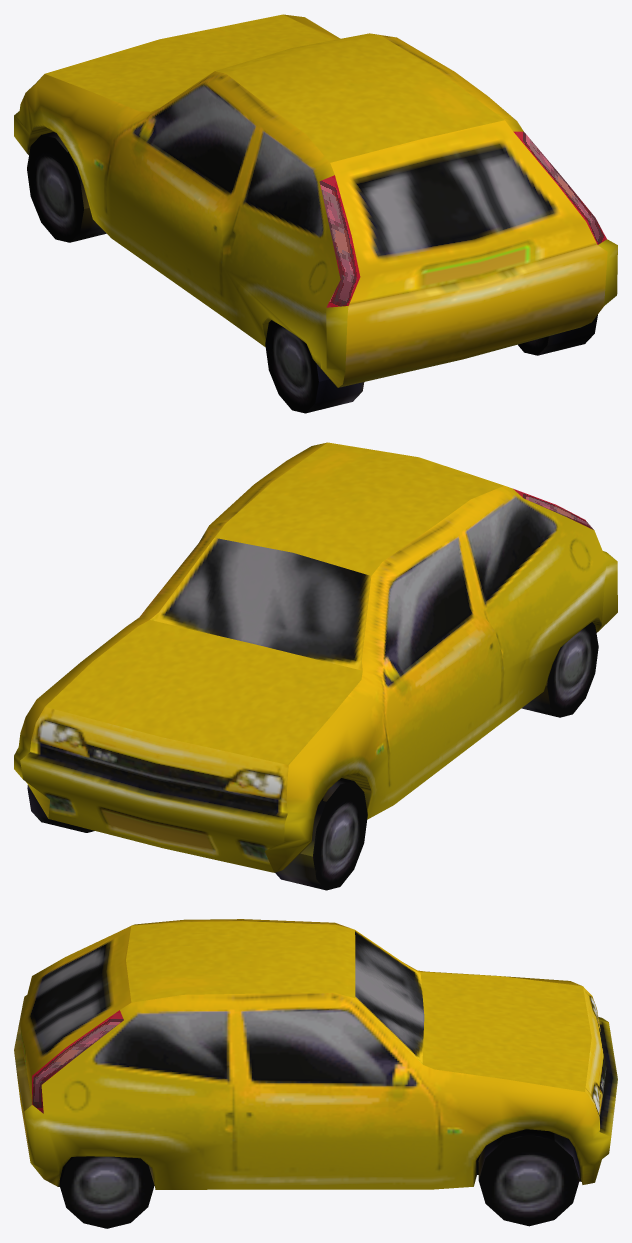
The model's file is player.obj.
3 renders of one model, top to bottom at view 1: azimuth 30°, elevation 25°; view 2: azimuth 150°, elevation 25°; view 3: azimuth 270°, elevation 25°, orthographic. The views are drawn at different scales.
Parts seen in each view (by area): view 1: AutoPlayer; view 2: AutoPlayer; view 3: AutoPlayer.
Part boxes in pixels (x1=…): AutoPlayer: x1=14, y1=14, x2=617, y2=413; AutoPlayer: x1=14, y1=442, x2=617, y2=890; AutoPlayer: x1=14, y1=919, x2=617, y2=1228.
Bounding box in the file's own units: 0.1944 × 0.1487 × 0.3824.
